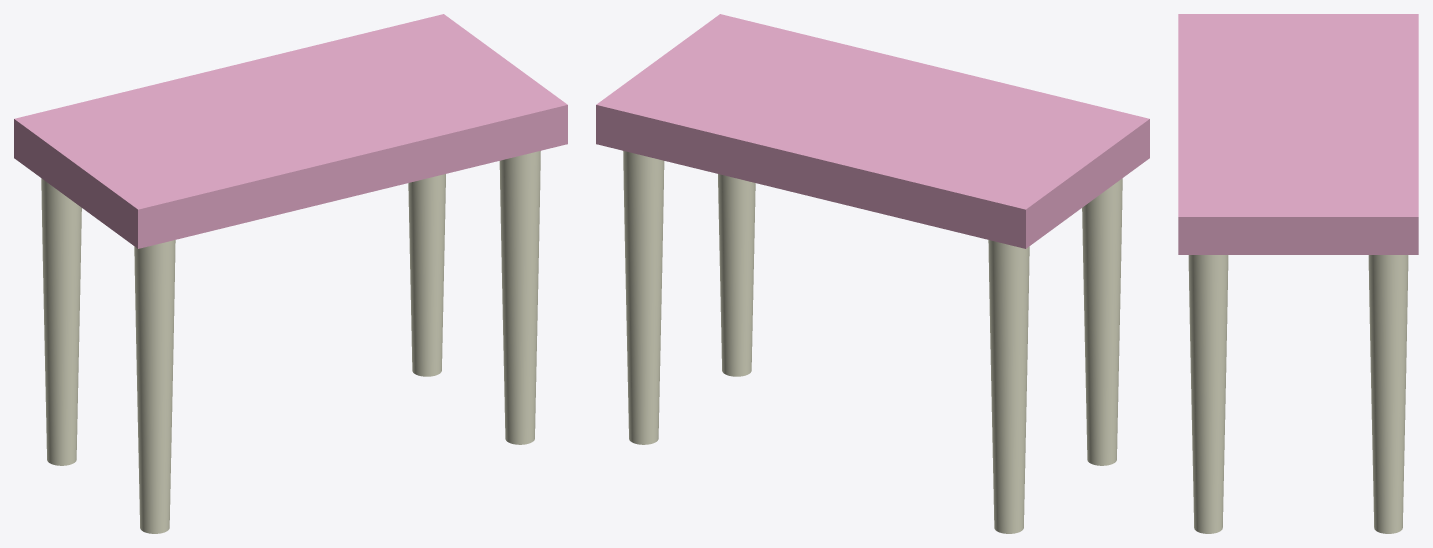
Rendered from desk1_pink.glb.
3 views of the same model, side by side, from view 1: azimuth 30°, elevation 25°; view 2: azimuth 150°, elevation 25°; view 3: azimuth 270°, elevation 25° (orthographic). The views are drawn at different scales.
Parts seen in each view (by area): view 1: Box002; view 2: Box002; view 3: Box002.
Part boxes in pixels (bbox=[...]): Box002: bbox=[14, 14, 567, 533]; Box002: bbox=[596, 14, 1149, 533]; Box002: bbox=[1178, 14, 1418, 533].
Size of the model in its own units: 0.16 by 0.12 by 0.08.
Materials: 1 (1 with a texture image).
